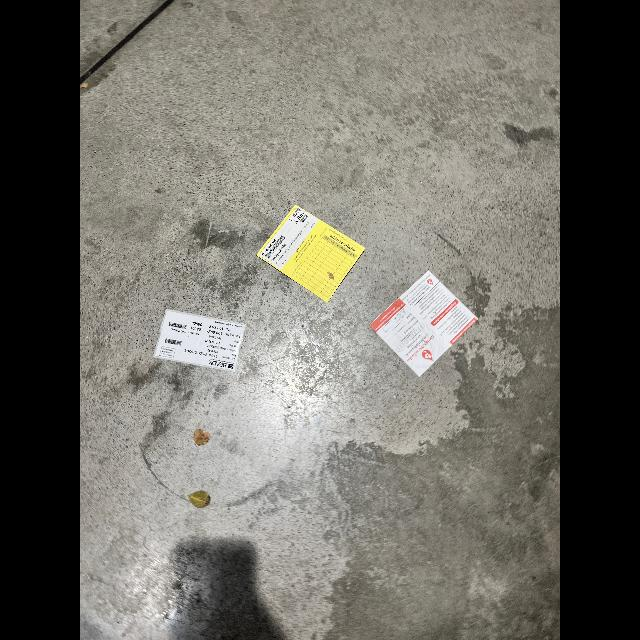scrap_paper: (255, 196, 369, 308), (368, 262, 474, 381), (152, 300, 250, 380)
